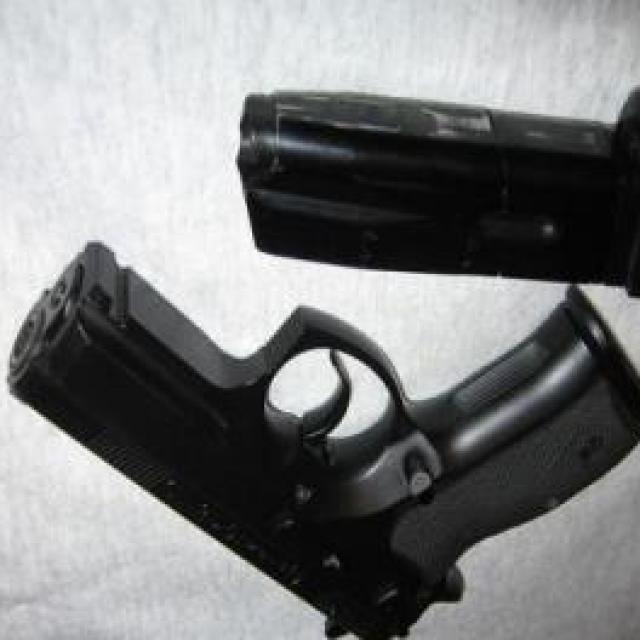pistol: (2, 242, 640, 640)
